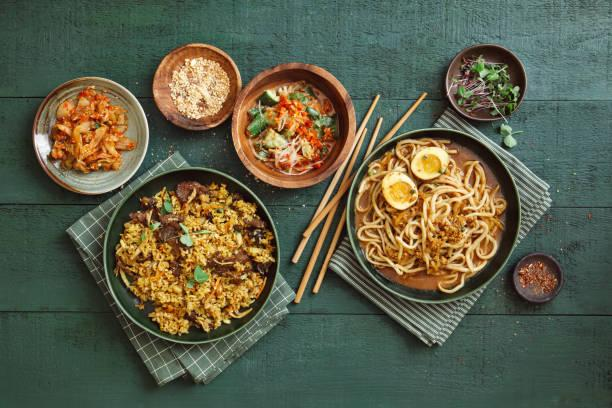Braised Crucian Carp: (345, 127, 517, 302), (104, 166, 275, 342), (232, 62, 354, 188), (32, 77, 148, 194)
